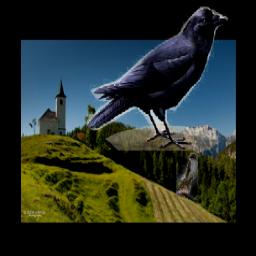Crow: (87, 6, 229, 151)
Cuckoo: (176, 154, 198, 202)
